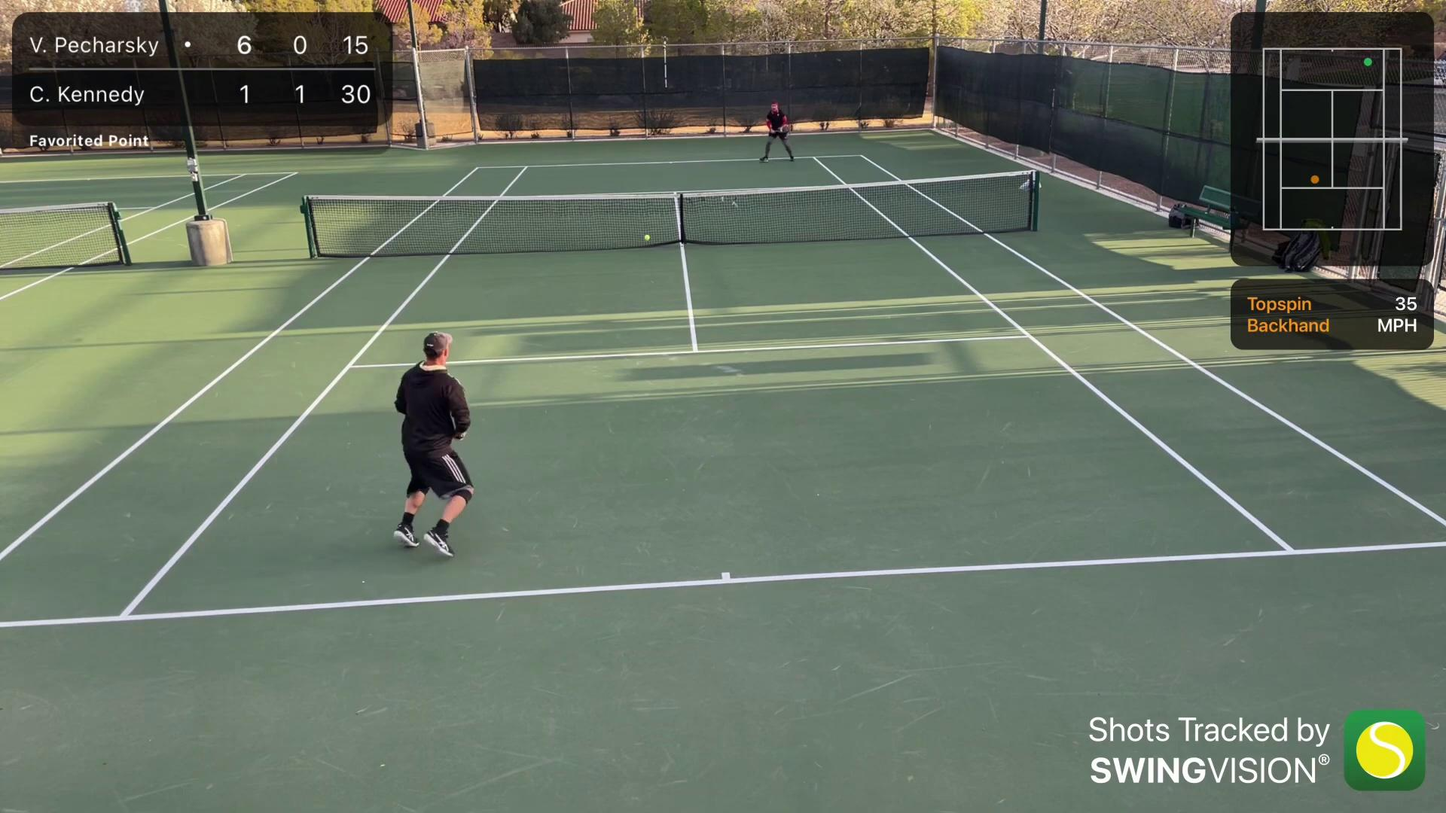ball: (643, 236, 650, 243)
